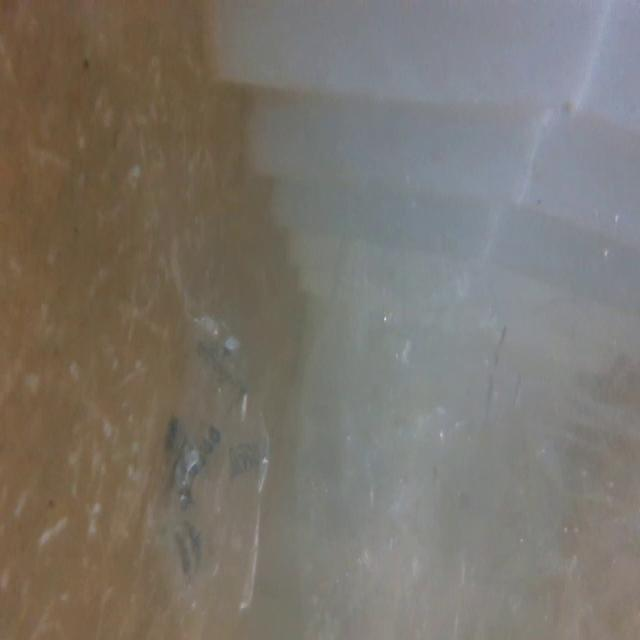plastic bags: (305, 220, 502, 640), (158, 299, 292, 640)
